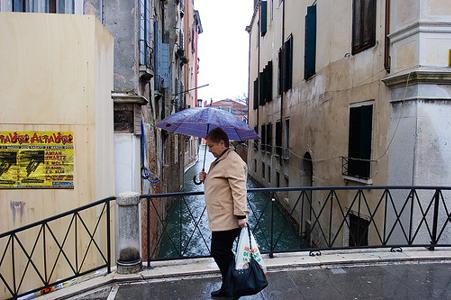person: (199, 129, 250, 299)
